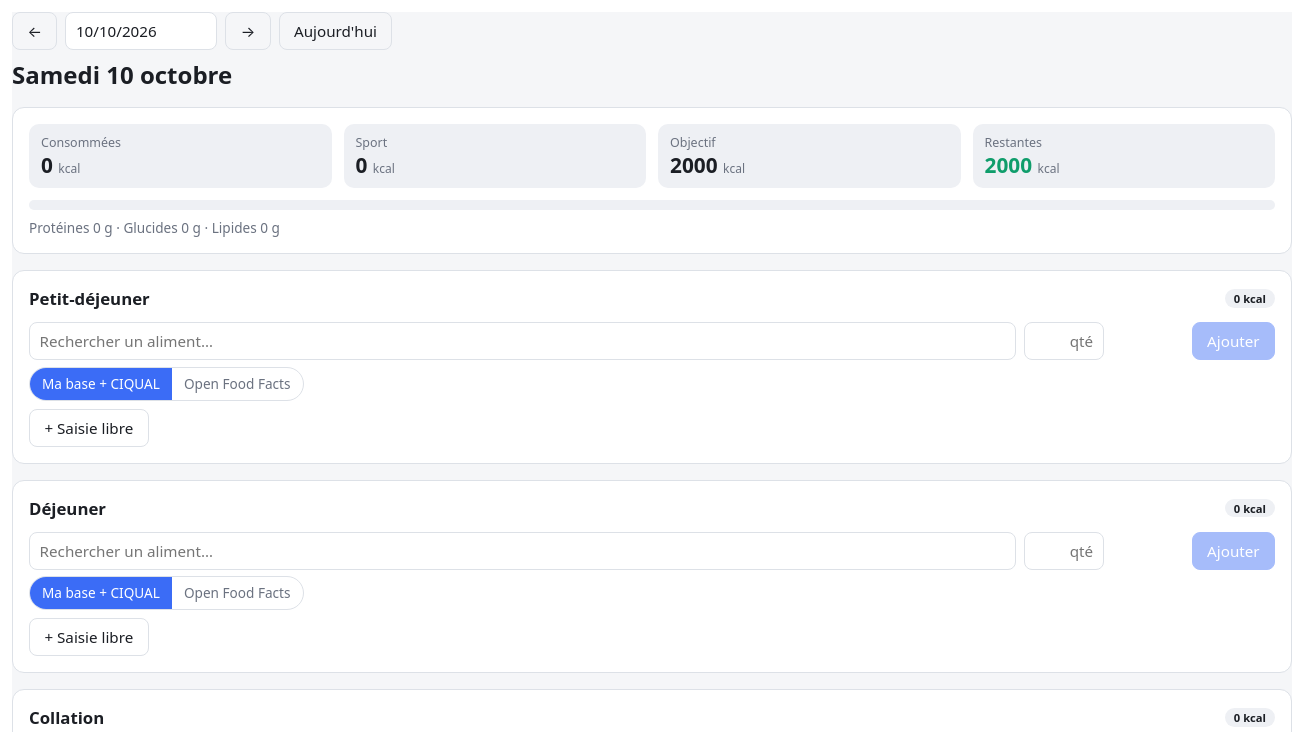
Test: Journal › navigue entre les jours
The width and height of the screenshot is (1292, 732).
Click the button named "Jour suivant". click: click(248, 31)
box: [225, 12, 271, 50]
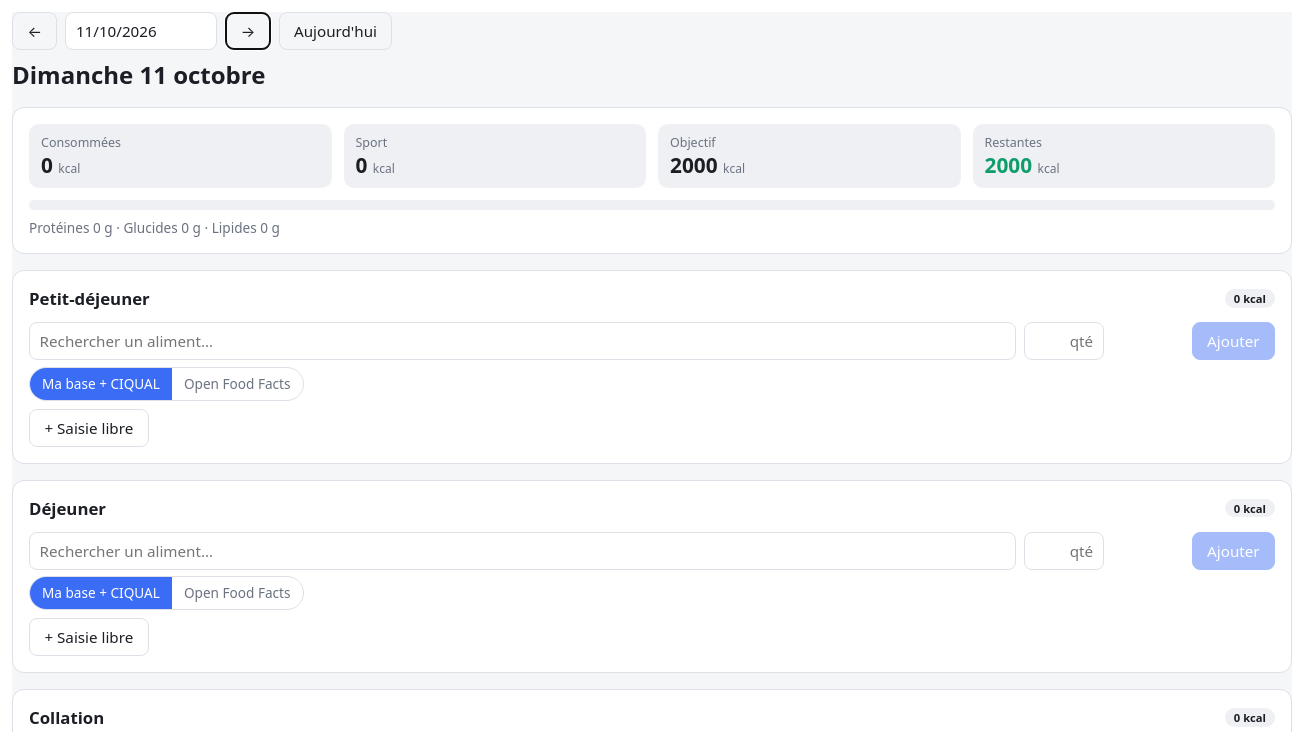
Click the button named "Jour précédent". click: click(35, 31)
box: [12, 12, 57, 50]
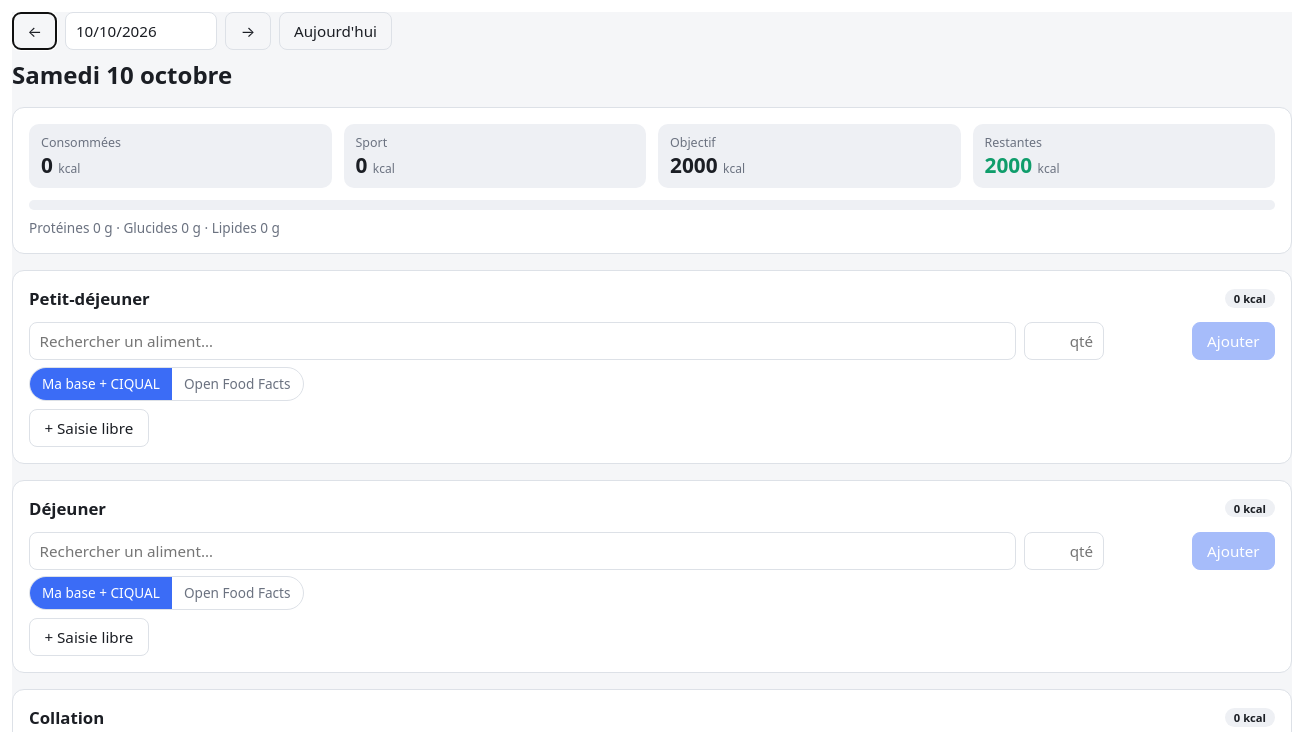
Click the button "Aujourd'hui". click: click(336, 31)
box: [279, 12, 392, 50]
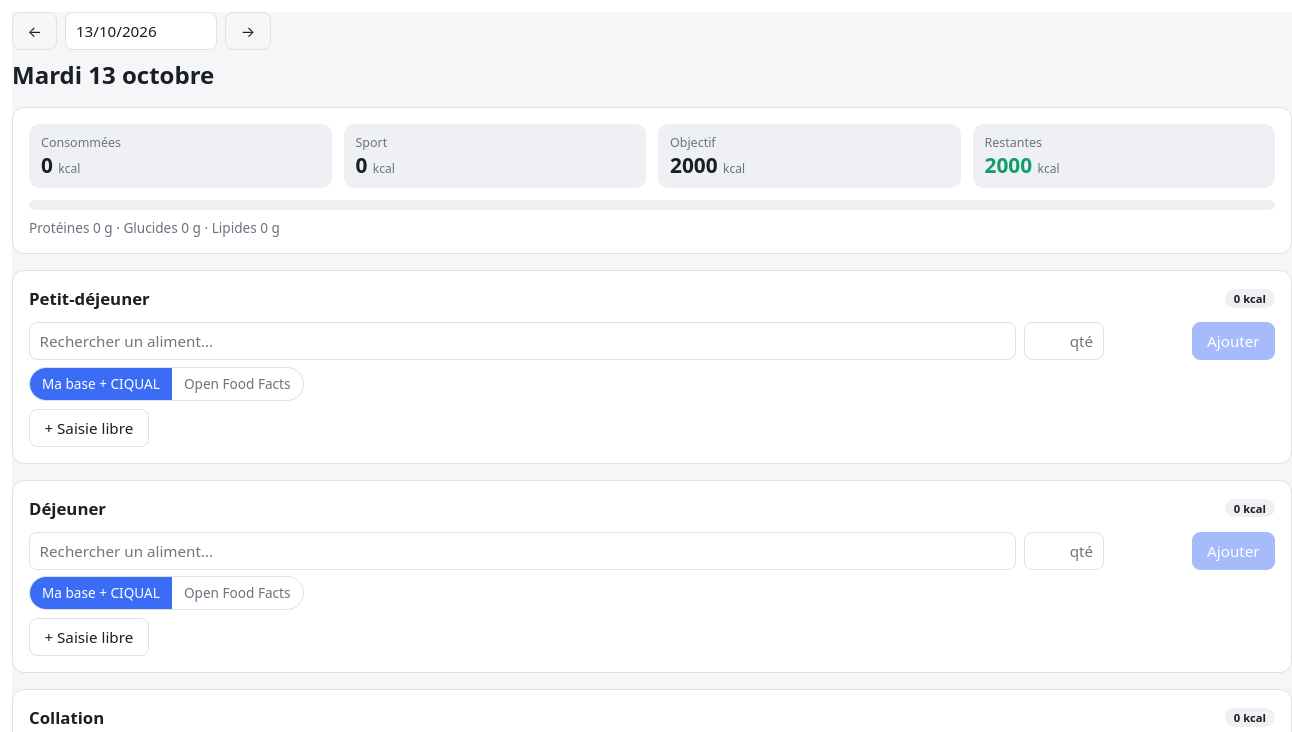
Expected: the button "Aujourd'hui" is gone
